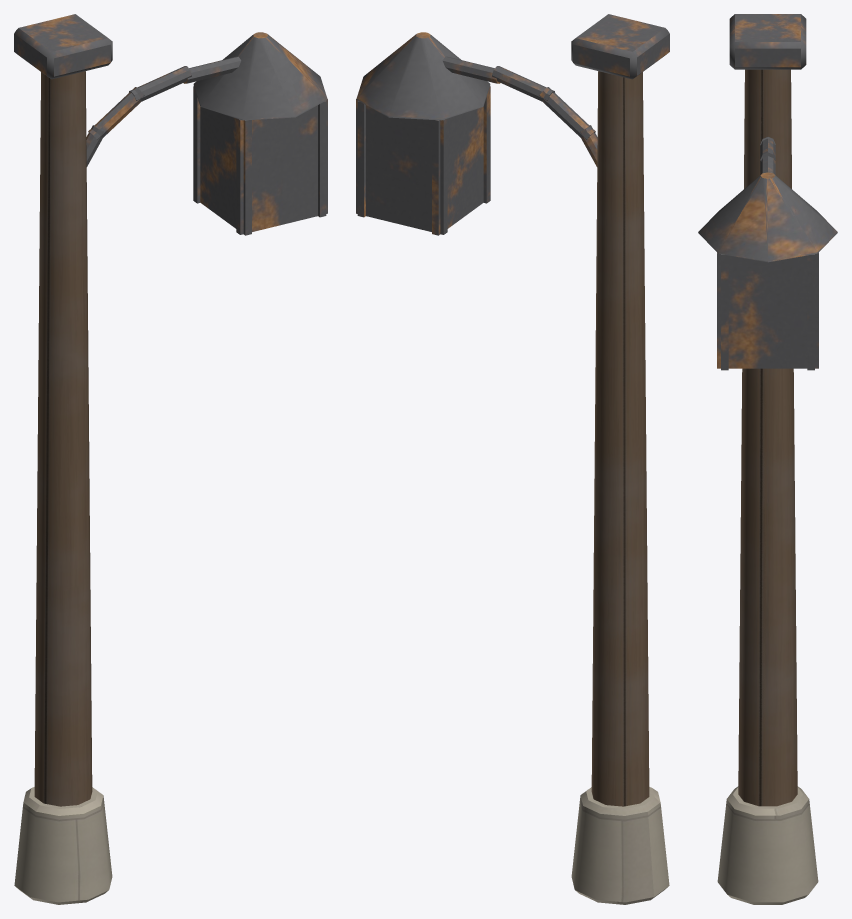
The model's file is lantern_post.glb.
3 views of the same model, side by side, from view 1: azimuth 30°, elevation 25°; view 2: azimuth 150°, elevation 25°; view 3: azimuth 270°, elevation 25° (orthographic).
Visible parts, largest first — view 1: lantern_post; view 2: lantern_post; view 3: lantern_post.
Boxes of the visible parts, box(x1,y1,x2,y2) form: lantern_post: box(14, 14, 327, 904); lantern_post: box(356, 14, 669, 904); lantern_post: box(698, 14, 837, 904).
Size of what is drawn, in the model's own units: 1.36 by 3.72 by 0.5494.
4 materials, 3 textured.
